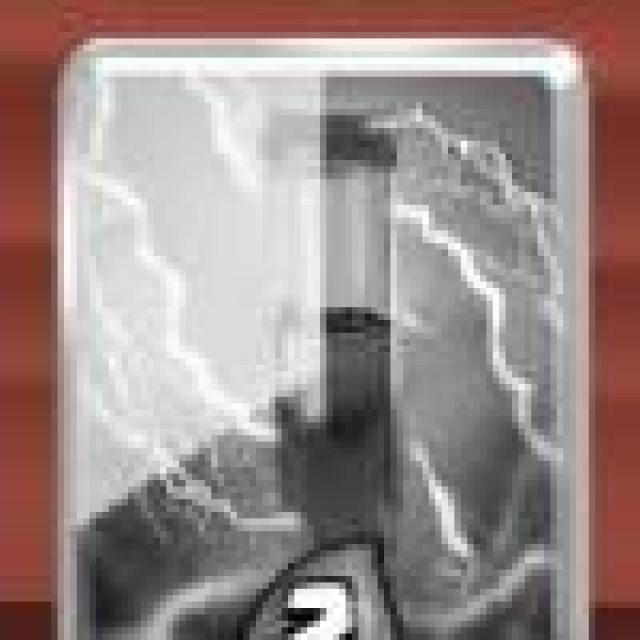Zap: (62, 43, 590, 640)
